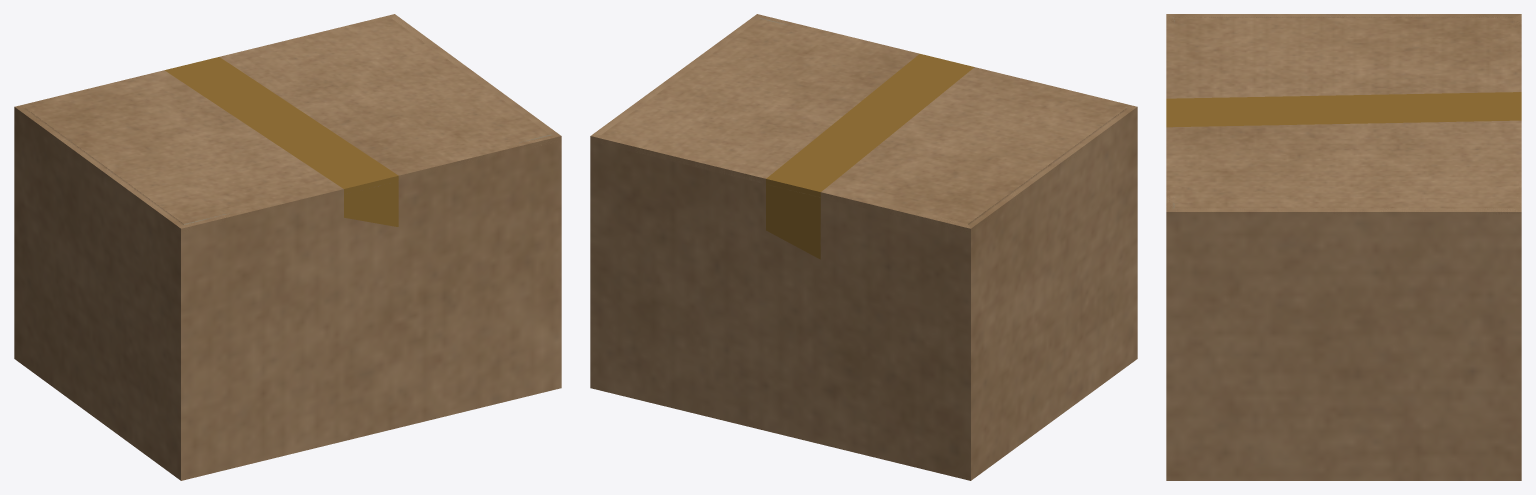
The model's file is supplyBox.fbx.
3 renders of one model, left to right at view 1: azimuth 30°, elevation 25°; view 2: azimuth 150°, elevation 25°; view 3: azimuth 270°, elevation 25°, orthographic. The views are drawn at different scales.
Visible parts, largest first — view 1: supplyBox, boxLid_R, boxLid_L; view 2: supplyBox, boxLid_R, boxLid_L; view 3: supplyBox, boxLid_L, boxLid_R.
Boxes of the visible parts, box(x1,y1,x2,y2) form: supplyBox: box(14, 14, 561, 480); boxLid_R: box(14, 60, 371, 233); boxLid_L: box(205, 14, 561, 186); supplyBox: box(590, 14, 1137, 480); boxLid_R: box(780, 60, 1137, 233); boxLid_L: box(590, 14, 946, 187); supplyBox: box(1166, 14, 1521, 480); boxLid_L: box(1166, 113, 1521, 215); boxLid_R: box(1166, 14, 1521, 112).
Bounding box in the file's own units: 81.48 × 51.62 × 61.84.
Materials: 1 (1 with a texture image).
